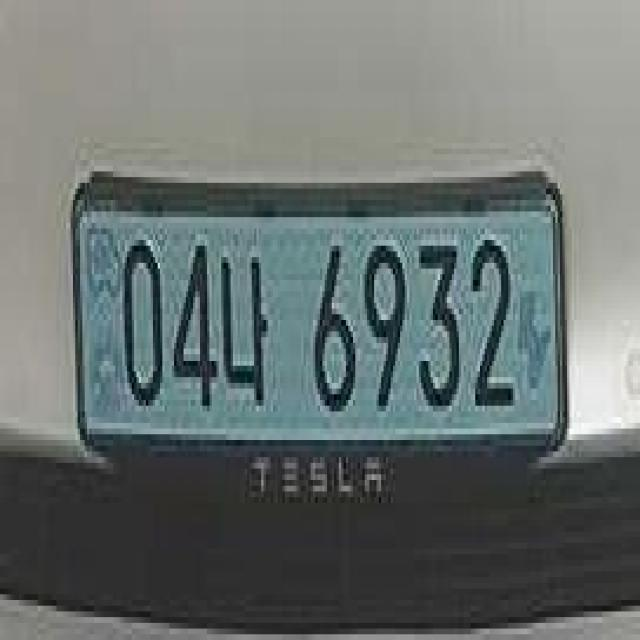EV_plate: (71, 143, 575, 524)
